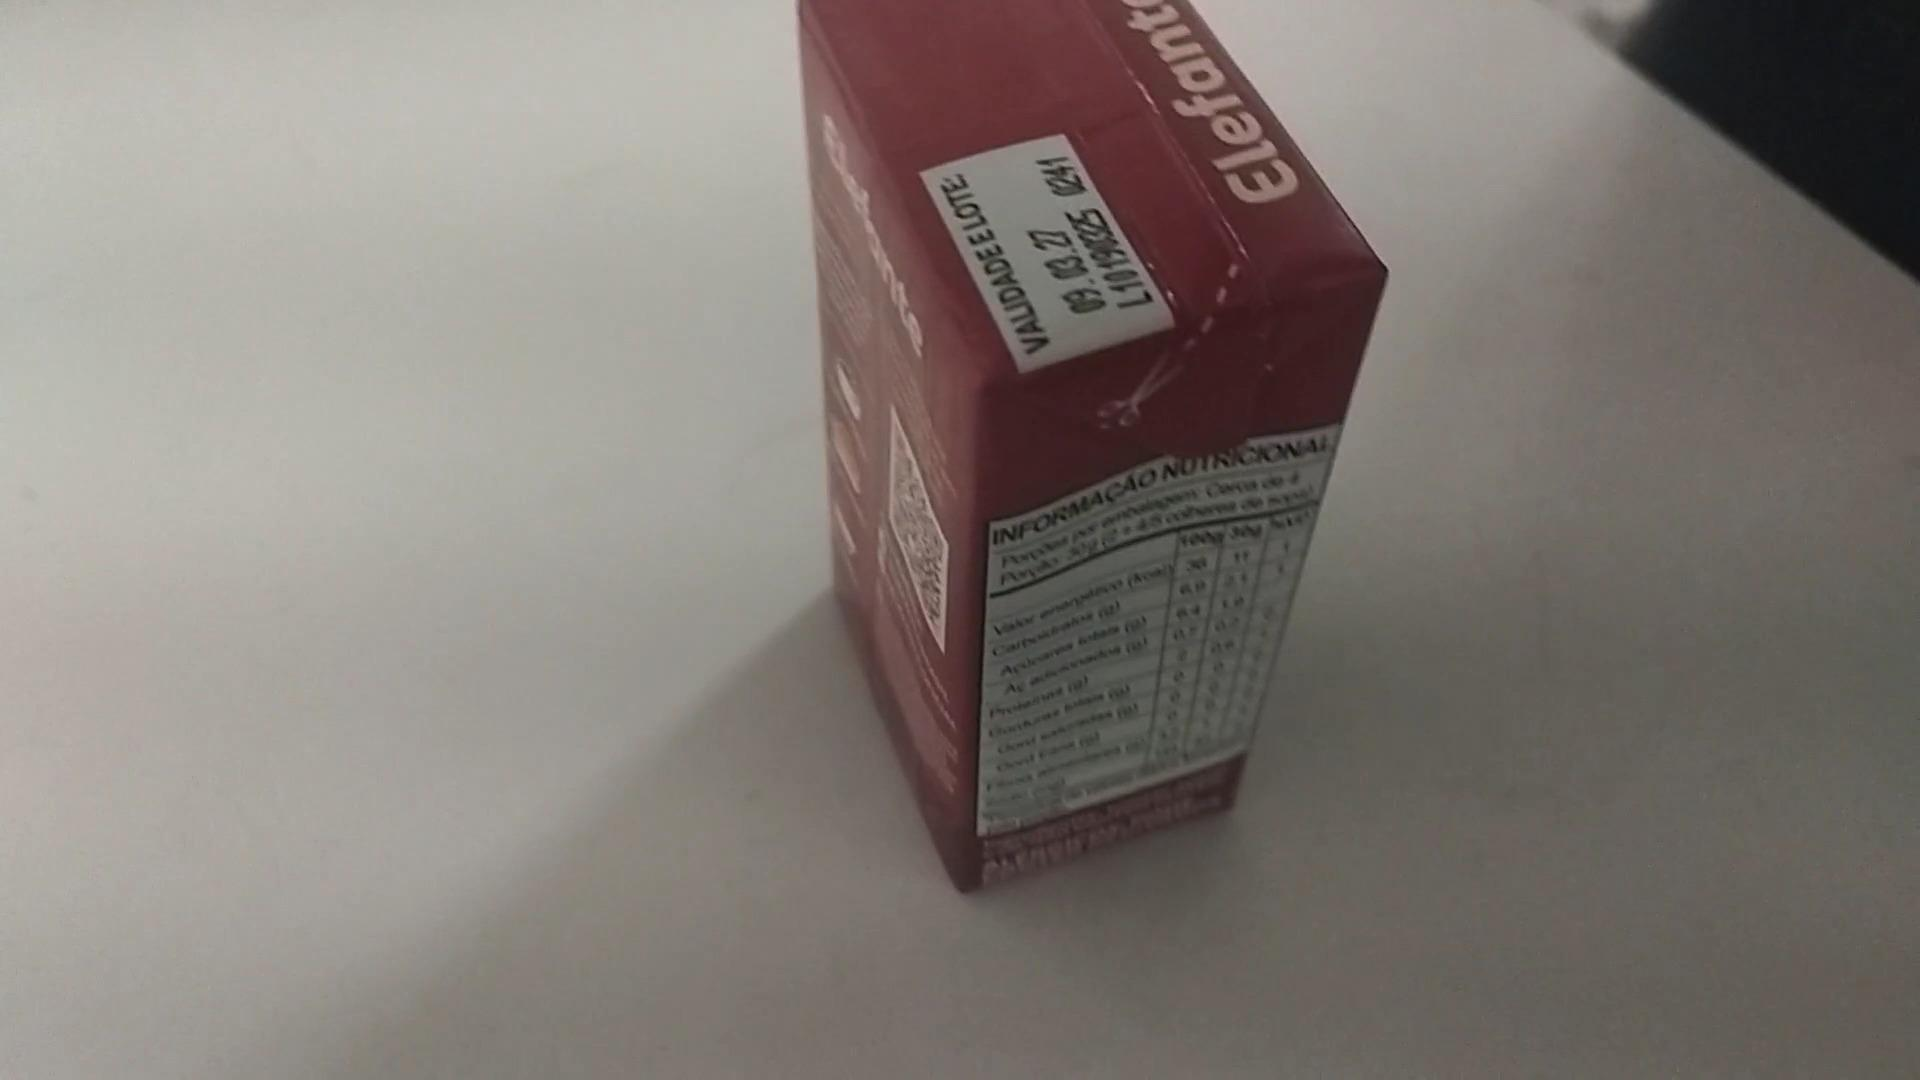tomate: (789, 0, 1396, 891)
